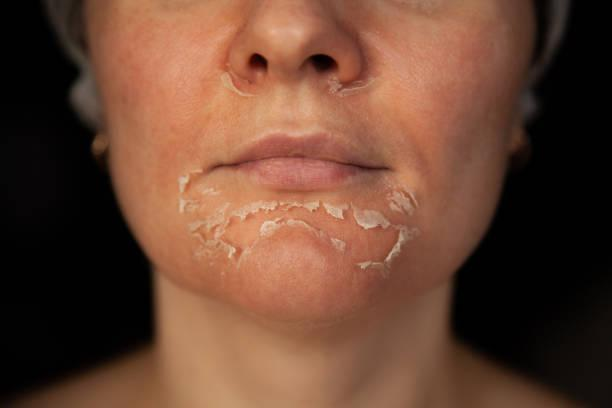Dry-Skin: (152, 183, 448, 322)
